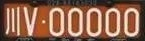V: (24, 7, 38, 36)
